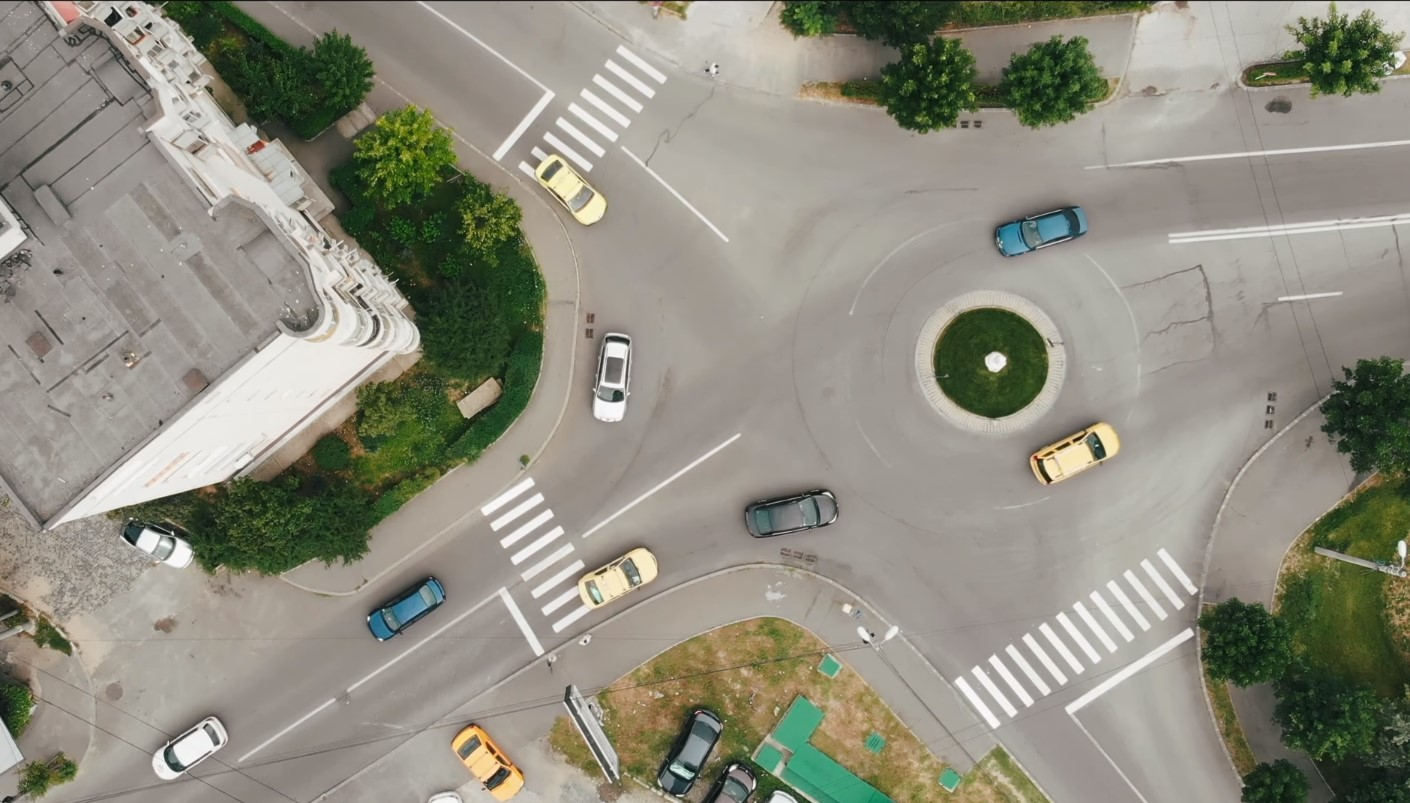araba: (450, 714, 526, 802), (654, 704, 725, 798), (1030, 418, 1124, 488), (366, 570, 452, 642), (993, 200, 1092, 260), (151, 709, 230, 784), (580, 541, 661, 609), (532, 154, 606, 226), (742, 485, 841, 536), (115, 517, 200, 573), (592, 329, 633, 424)
insan: (702, 60, 728, 74)
